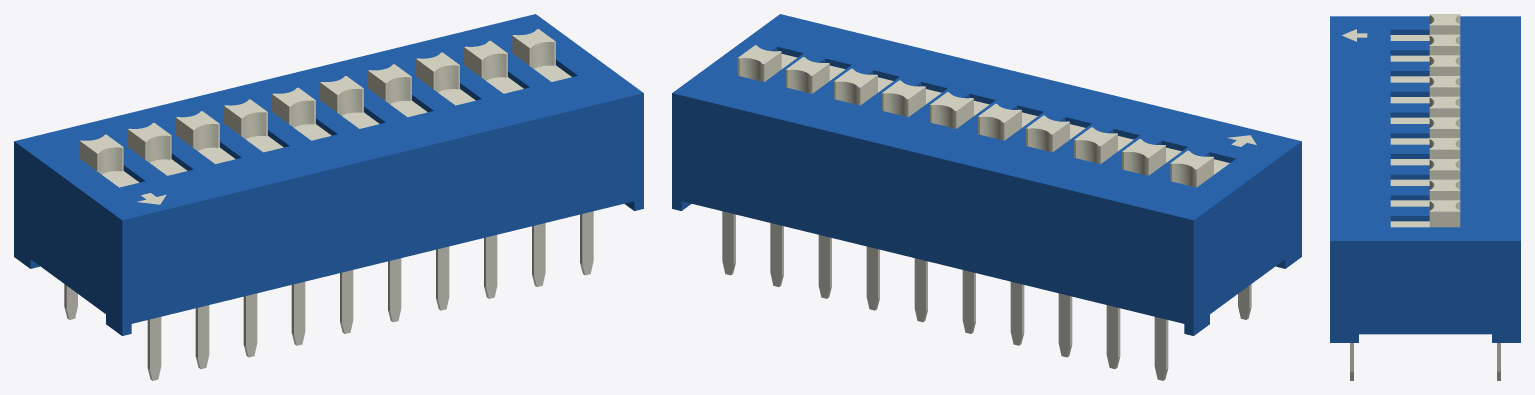
The model's file is kc-sw_dip_spstx10_slide_9.78x27.58mm_w7.62mm_p2.54mm.glb.
3 renders of one model, left to right at view 1: azimuth 30°, elevation 25°; view 2: azimuth 150°, elevation 25°; view 3: azimuth 270°, elevation 25°, orthographic. The views are drawn at different scales.
Visible parts, largest first — view 1: 0_0.16666666666666666_0.5_0, 0.75_0.75_0.6666666666666666_0, 0.6666666666666666_0.6666666666666666_0.5833333333333334_0.8; view 2: 0_0.16666666666666666_0.5_0, 0.75_0.75_0.6666666666666666_0, 0.6666666666666666_0.6666666666666666_0.5833333333333334_0.8; view 3: 0_0.16666666666666666_0.5_0, 0.75_0.75_0.6666666666666666_0, 0.6666666666666666_0.6666666666666666_0.5833333333333334_0.8.
Part boxes in pixels (<box>): 0_0.16666666666666666_0.5_0: <box>14,14,643,335</box>; 0.75_0.75_0.6666666666666666_0: <box>79,29,571,204</box>; 0.6666666666666666_0.6666666666666666_0.5833333333333334_0.8: <box>64,211,593,380</box>; 0_0.16666666666666666_0.5_0: <box>672,14,1301,335</box>; 0.75_0.75_0.6666666666666666_0: <box>737,45,1256,187</box>; 0.6666666666666666_0.6666666666666666_0.5833333333333334_0.8: <box>722,211,1251,380</box>; 0_0.16666666666666666_0.5_0: <box>1330,16,1520,342</box>; 0.75_0.75_0.6666666666666666_0: <box>1342,14,1460,227</box>; 0.6666666666666666_0.6666666666666666_0.5833333333333334_0.8: <box>1350,343,1500,380</box>.
Size of the model in its own units: 2.76 by 0.9949 by 0.9899.
